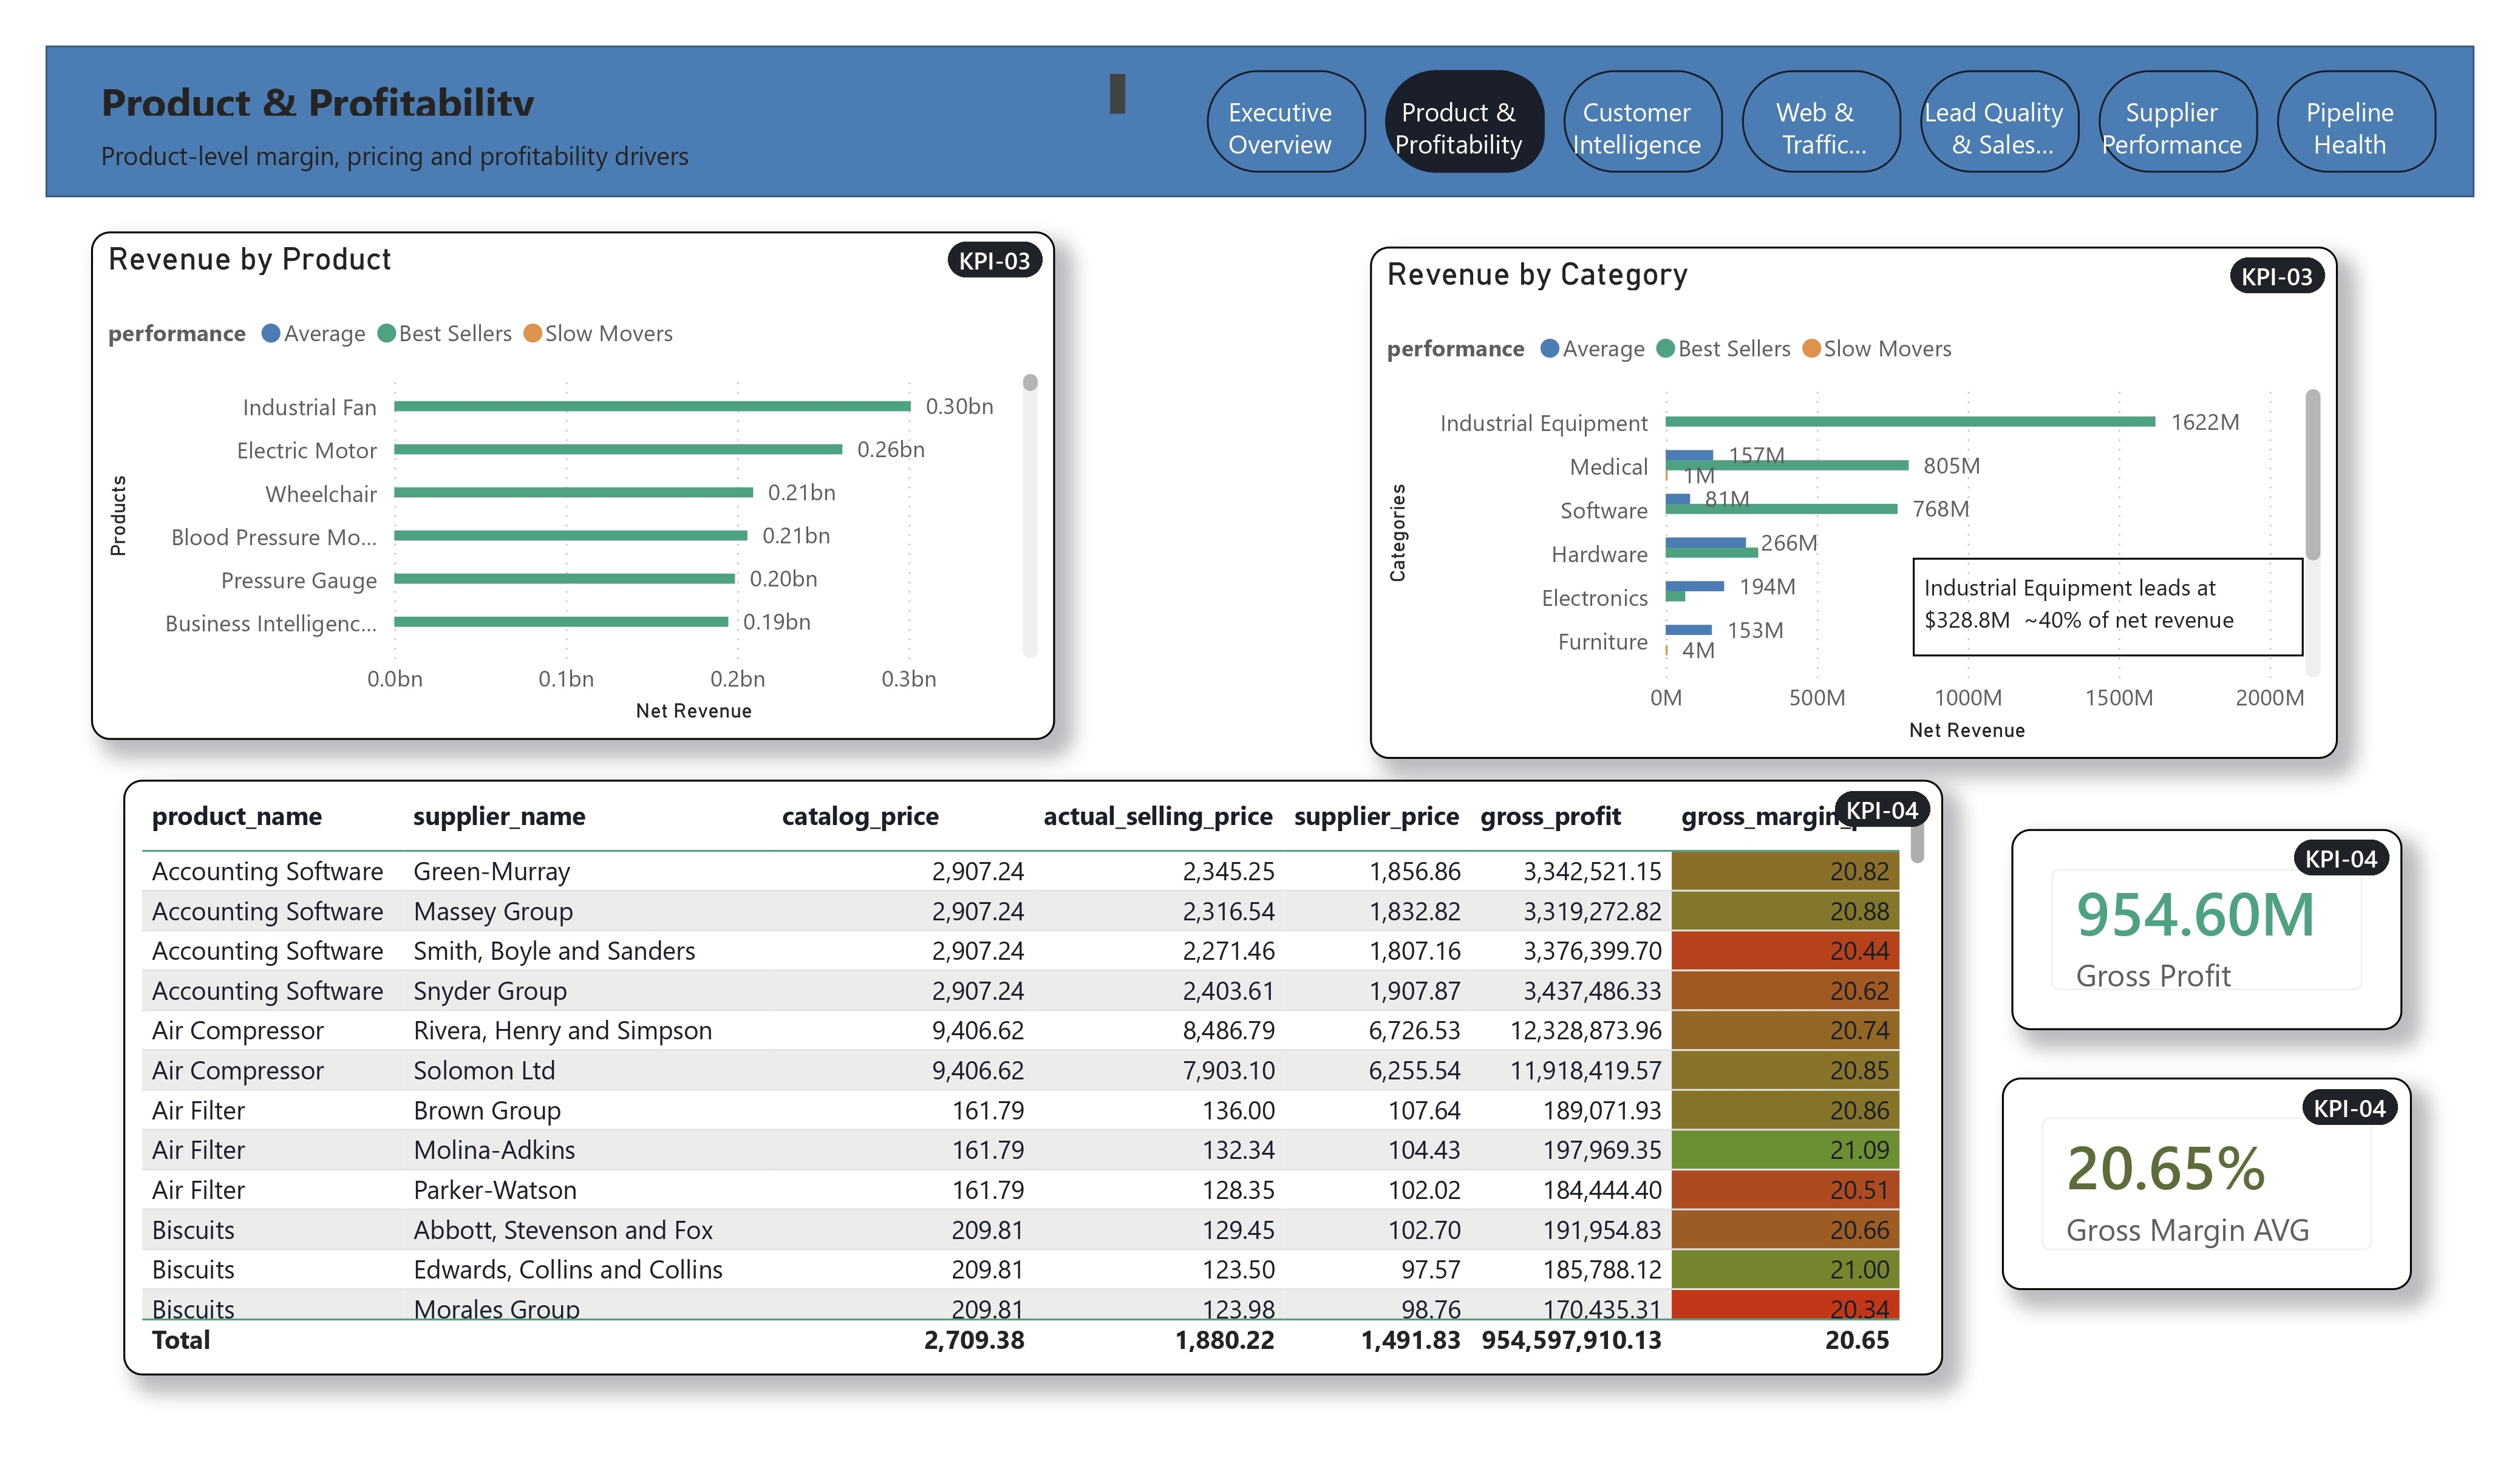

The page's visual inventory and layout, read from the dashboard file:
{"tool":"powerbi","page":{"name":"Product & Profitability","canvas":[1280,720],"ordinal":1},"visuals":[{"type":"clusteredBarChart","title":"Revenue by Product","fields":{"Category":["marts vw_revenue_by_product.product_name"],"Series":["marts vw_revenue_by_product.performance"],"Y":["Sum(marts vw_revenue_by_product.net_revenue)"]},"box":[24.4,97.7,507.7,267.9],"z":0},{"type":"shape","box":[0,0,1280,80],"z":1000},{"type":"clusteredBarChart","title":"Revenue by Category","fields":{"Category":["marts vw_revenue_by_product.category_name"],"Series":["marts vw_revenue_by_product.performance"],"Y":["Sum(marts vw_revenue_by_product.net_revenue)"]},"box":[697.7,105.8,510.3,270.5],"z":2000},{"type":"tableEx","title":"Gross Margin Analysis - Product & Supplier","fields":{"Values":["marts vw_gross_margin_analysis.product_name","marts vw_gross_margin_analysis.supplier_name","Average(marts vw_gross_margin_analysis.catalog_price)","Average(marts vw_gross_margin_analysis.actual_selling_price)","Average(marts vw_gross_margin_analysis.supplier_price)","Sum(marts vw_gross_margin_analysis.gross_profit)","Average(marts vw_gross_margin_analysis.gross_margin_pct)"]},"box":[40.7,387.2,959.3,314],"z":3000},{"type":"cardVisual","fields":{"Data":["Sum(marts vw_gross_margin_analysis.gross_profit)"]},"box":[1036,412.8,205.8,105.8],"z":4000},{"type":"cardVisual","fields":{"Data":["Average(marts vw_gross_margin_analysis.gross_margin_pct)"]},"box":[1031.4,544.2,215.1,111.6],"z":5000},{"type":"textbox","box":[24,10,550,32],"z":6000},{"type":"textbox","box":[24.4,44.2,550,36],"z":7000},{"type":"pageNavigator","box":[611.6,12.8,648.8,54.7],"z":8000},{"type":"textbox","box":[983.7,269.8,205.8,52.3],"z":13000}]}

Visuals, with their boxes on the page's 1280x720 design canvas (x1, y1, x2, y2). These are canvas units, not pixel positions in the 2520x1457 screenshot, which may show the page scaled, cropped or inside an application window:
"Revenue by Product" clusteredBarChart: {"left": 24, "top": 98, "right": 532, "bottom": 366}
shape: {"left": 0, "top": 0, "right": 1280, "bottom": 80}
"Revenue by Category" clusteredBarChart: {"left": 698, "top": 106, "right": 1208, "bottom": 376}
"Gross Margin Analysis - Product & Supplier" tableEx: {"left": 41, "top": 387, "right": 1000, "bottom": 701}
cardVisual - Sum(marts vw_gross_margin_analysis.gross_profit): {"left": 1036, "top": 413, "right": 1242, "bottom": 519}
cardVisual - Average(marts vw_gross_margin_analysis.gross_margin_pct): {"left": 1031, "top": 544, "right": 1246, "bottom": 656}
textbox: {"left": 24, "top": 10, "right": 574, "bottom": 42}
textbox: {"left": 24, "top": 44, "right": 574, "bottom": 80}
pageNavigator: {"left": 612, "top": 13, "right": 1260, "bottom": 68}
textbox: {"left": 984, "top": 270, "right": 1190, "bottom": 322}
